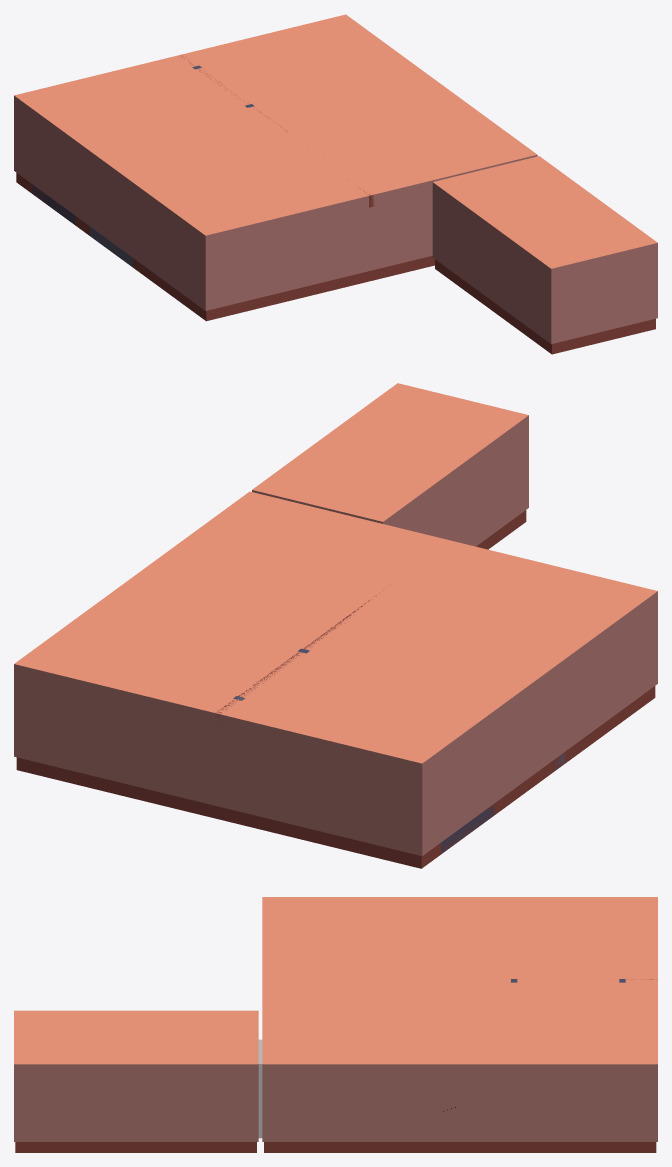
The model's file is Room.fbx.
3 renders of one model, top to bottom at view 1: azimuth 30°, elevation 25°; view 2: azimuth 150°, elevation 25°; view 3: azimuth 270°, elevation 25°, orthographic. The views are drawn at different scales.
Parts seen in each view (by area): view 1: MainRoom; view 2: MainRoom; view 3: MainRoom, Door.
Boxes of the visible parts, x1,y1,x2,y2 form: MainRoom: [14, 14, 657, 354]; MainRoom: [14, 383, 657, 868]; MainRoom: [14, 897, 657, 1152]; Door: [258, 1039, 262, 1138].
Size of the model in its own units: 1205 by 300 by 1961.
